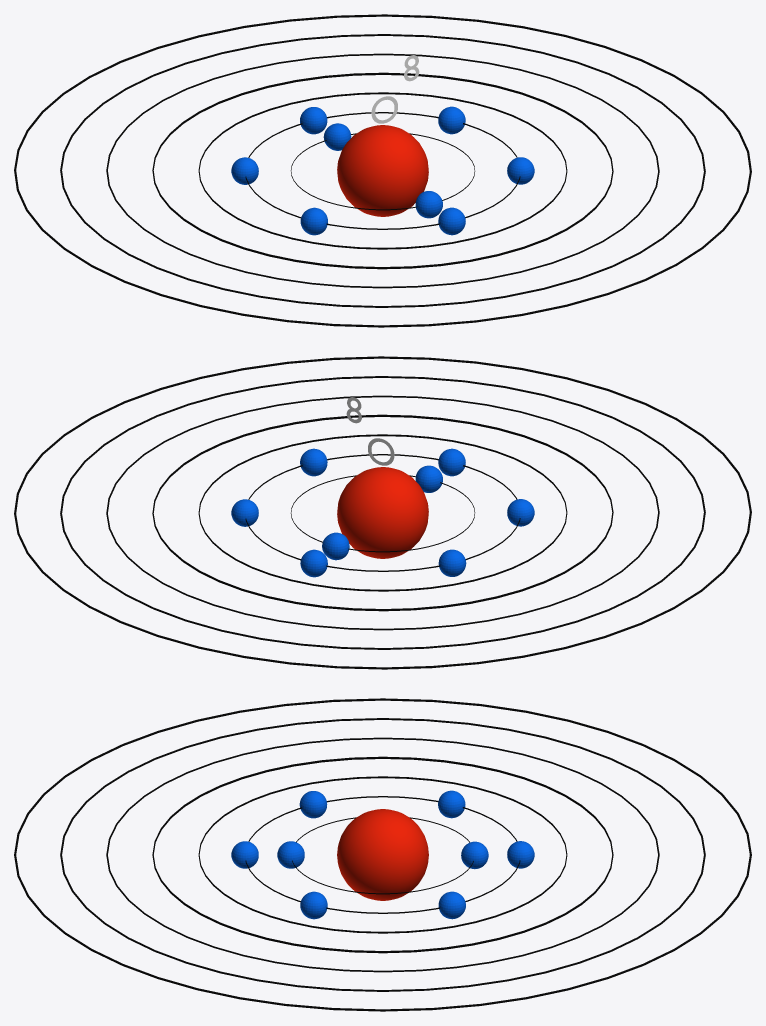
3 views of the same model, one above another, from view 1: azimuth 30°, elevation 25°; view 2: azimuth 150°, elevation 25°; view 3: azimuth 270°, elevation 25° (orthographic).
Parts seen in each view (by area): view 1: Proton, n7, n6, O2, n5, n4, n3, O1, n2; view 2: Proton, n7, n6, O2, n5, n4, n3, O1, n2; view 3: Proton, n7, n6, O2, n5, n4, n3, O1, n2, n1.
Boxes of the visible parts, box(x1,y1,x2,y2) form: Proton: box(337, 125, 428, 216); n7: box(14, 14, 751, 327); n6: box(60, 34, 705, 307); O2: box(231, 106, 534, 235); n5: box(106, 53, 659, 288); n4: box(152, 72, 613, 269); n3: box(198, 92, 567, 249); O1: box(323, 123, 442, 218); n2: box(245, 112, 520, 229); Proton: box(337, 467, 428, 558); n7: box(14, 356, 751, 669); n6: box(60, 376, 705, 649); O2: box(231, 448, 534, 577); n5: box(106, 395, 659, 630); n4: box(152, 414, 613, 611); n3: box(198, 434, 567, 591); O1: box(322, 465, 442, 560); n2: box(245, 454, 520, 571); Proton: box(337, 809, 428, 900); n7: box(14, 698, 751, 1011); n6: box(60, 718, 705, 991); O2: box(231, 790, 534, 919); n5: box(106, 737, 659, 972); n4: box(152, 756, 613, 953); n3: box(198, 776, 567, 933); O1: box(277, 841, 488, 869); n2: box(245, 796, 520, 913); n1: box(292, 817, 473, 894).
Size of the model in its own units: 802 by 180 by 802.
